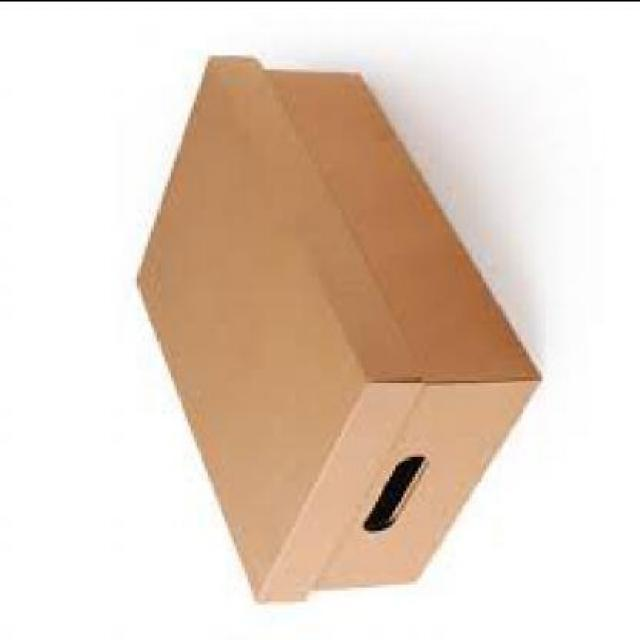box: (134, 54, 537, 603)
